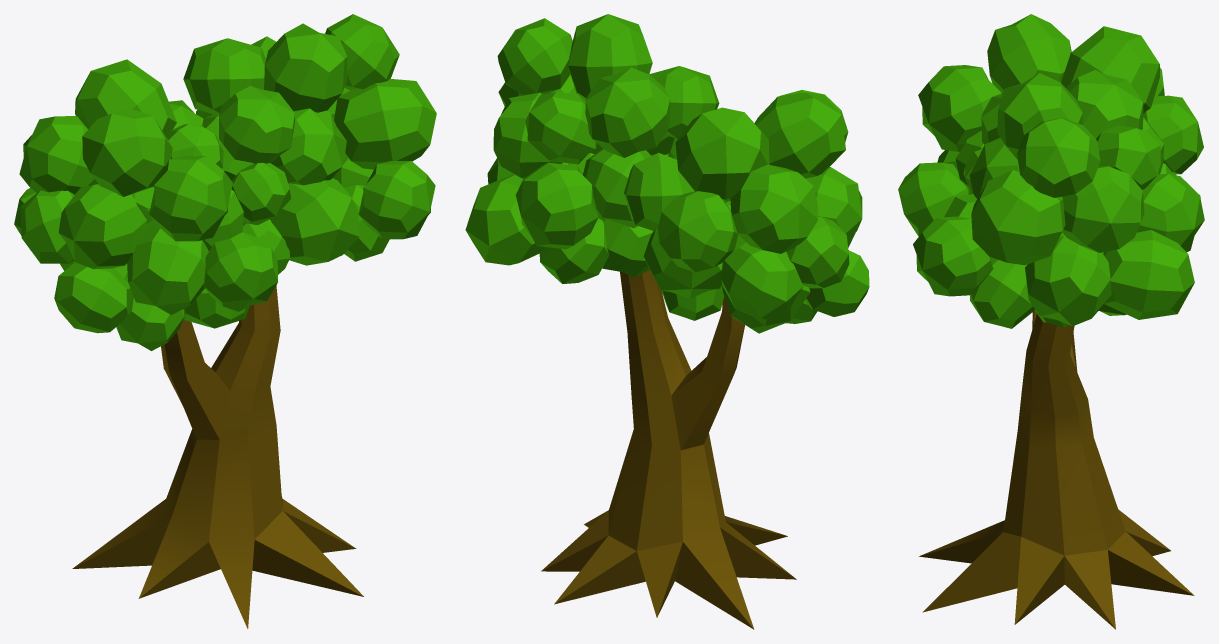
File: Tree1.fbx
3 views of the same model, side by side, from view 1: azimuth 30°, elevation 25°; view 2: azimuth 150°, elevation 25°; view 3: azimuth 270°, elevation 25° (orthographic).
Visible parts, largest first — view 1: Tree1; view 2: Tree1; view 3: Tree1.
Boxes of the visible parts, x1,y1,x2,y2 form: Tree1: [14, 14, 436, 628]; Tree1: [465, 14, 869, 629]; Tree1: [898, 14, 1204, 629].
Bounding box in the file's own units: 5.58 × 7.57 × 3.94.
